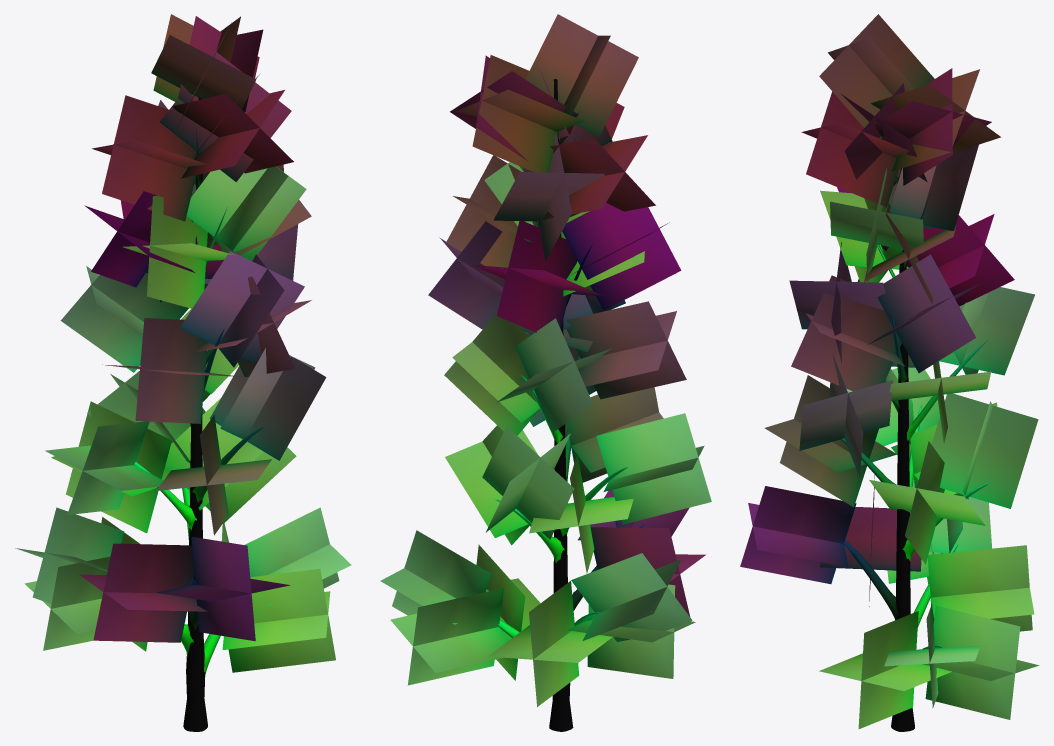
File: URP_P5_Tree_3_LOD_1.fbx
3 views of the same model, side by side, from view 1: azimuth 30°, elevation 25°; view 2: azimuth 150°, elevation 25°; view 3: azimuth 270°, elevation 25° (orthographic). The views are drawn at different scales.
Parts seen in each view (by area): view 1: Tree_3_LOD_1; view 2: Tree_3_LOD_1; view 3: Tree_3_LOD_1.
Part boxes in pixels (bbox=[...]): Tree_3_LOD_1: bbox=[15, 14, 351, 731]; Tree_3_LOD_1: bbox=[380, 14, 711, 731]; Tree_3_LOD_1: bbox=[740, 14, 1039, 731].
Bounding box in the file's own units: 301 × 668 × 260.
